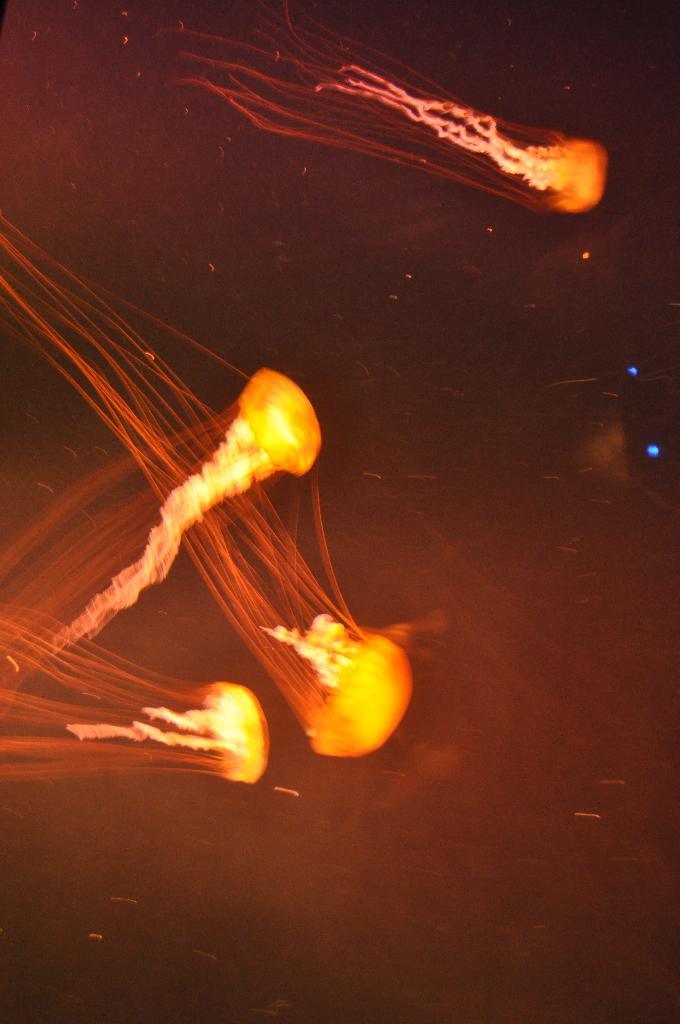Jellyfish: (0, 205, 420, 759), (0, 353, 323, 730), (99, 22, 656, 218), (0, 600, 279, 784)
